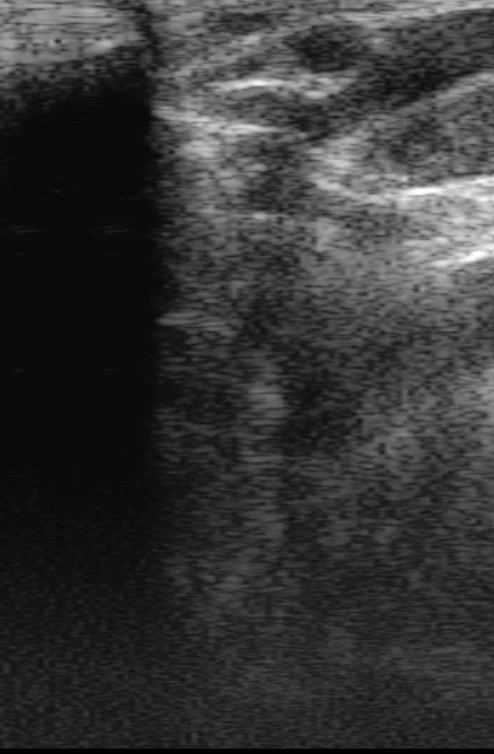veins_detect: (280, 18, 378, 79)
veins_seg: (284, 22, 366, 74)
